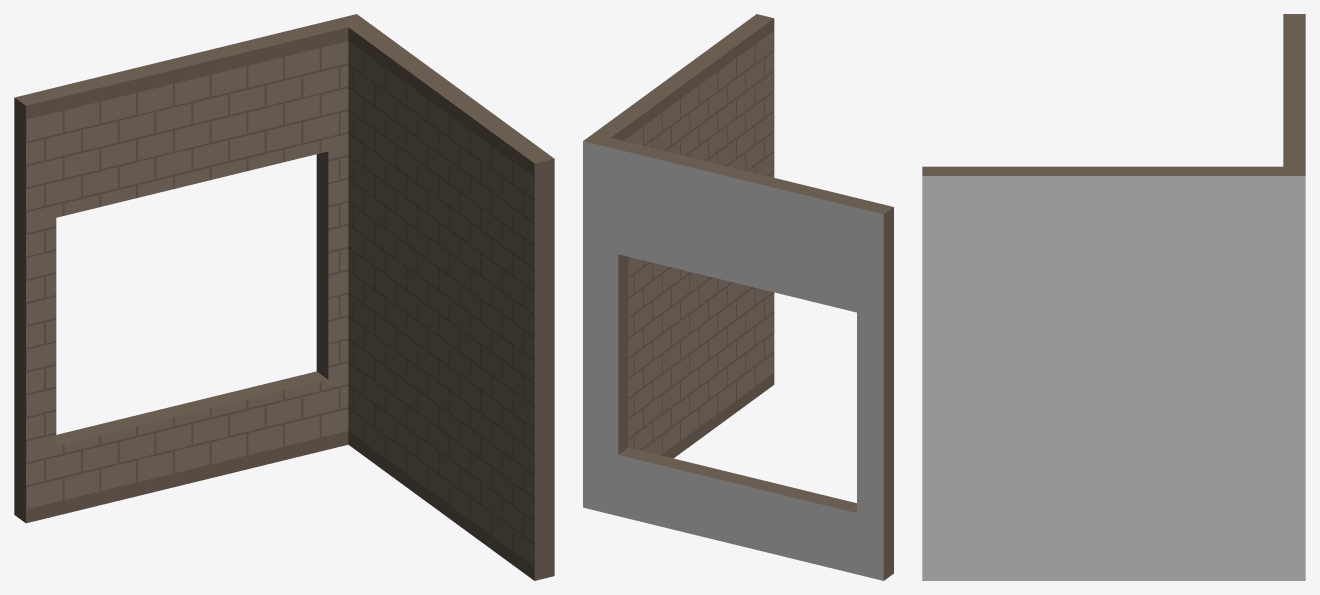
Rendered from Wall1_C10_13.fbx.
3 renders of one model, left to right at view 1: azimuth 30°, elevation 25°; view 2: azimuth 150°, elevation 25°; view 3: azimuth 270°, elevation 25°, orthographic. The views are drawn at different scales.
Visible parts, largest first — view 1: Wall1_C10_13; view 2: Wall1_C10_13; view 3: Wall1_C10_13.
Part boxes in pixels (<box>): Wall1_C10_13: <box>14,14,554,580</box>; Wall1_C10_13: <box>583,14,893,580</box>; Wall1_C10_13: <box>922,14,1305,580</box>.
Bounding box in the file's own units: 258 × 300 × 258.
